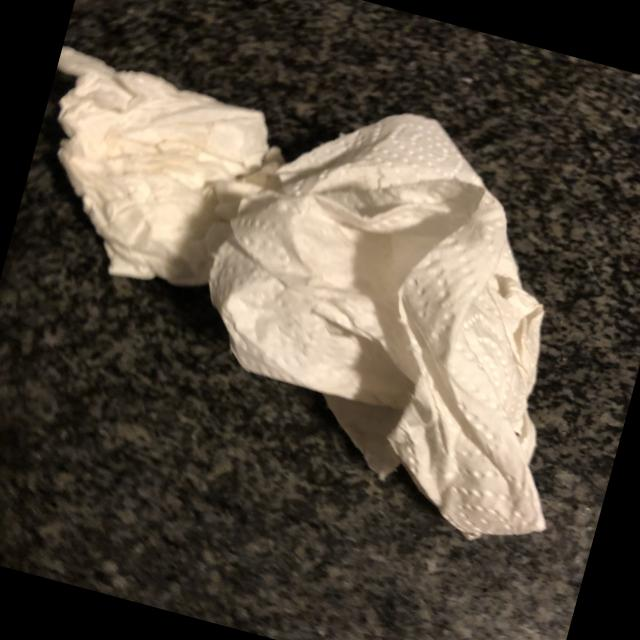organic waste: (136, 67, 640, 555), (8, 39, 308, 316)
